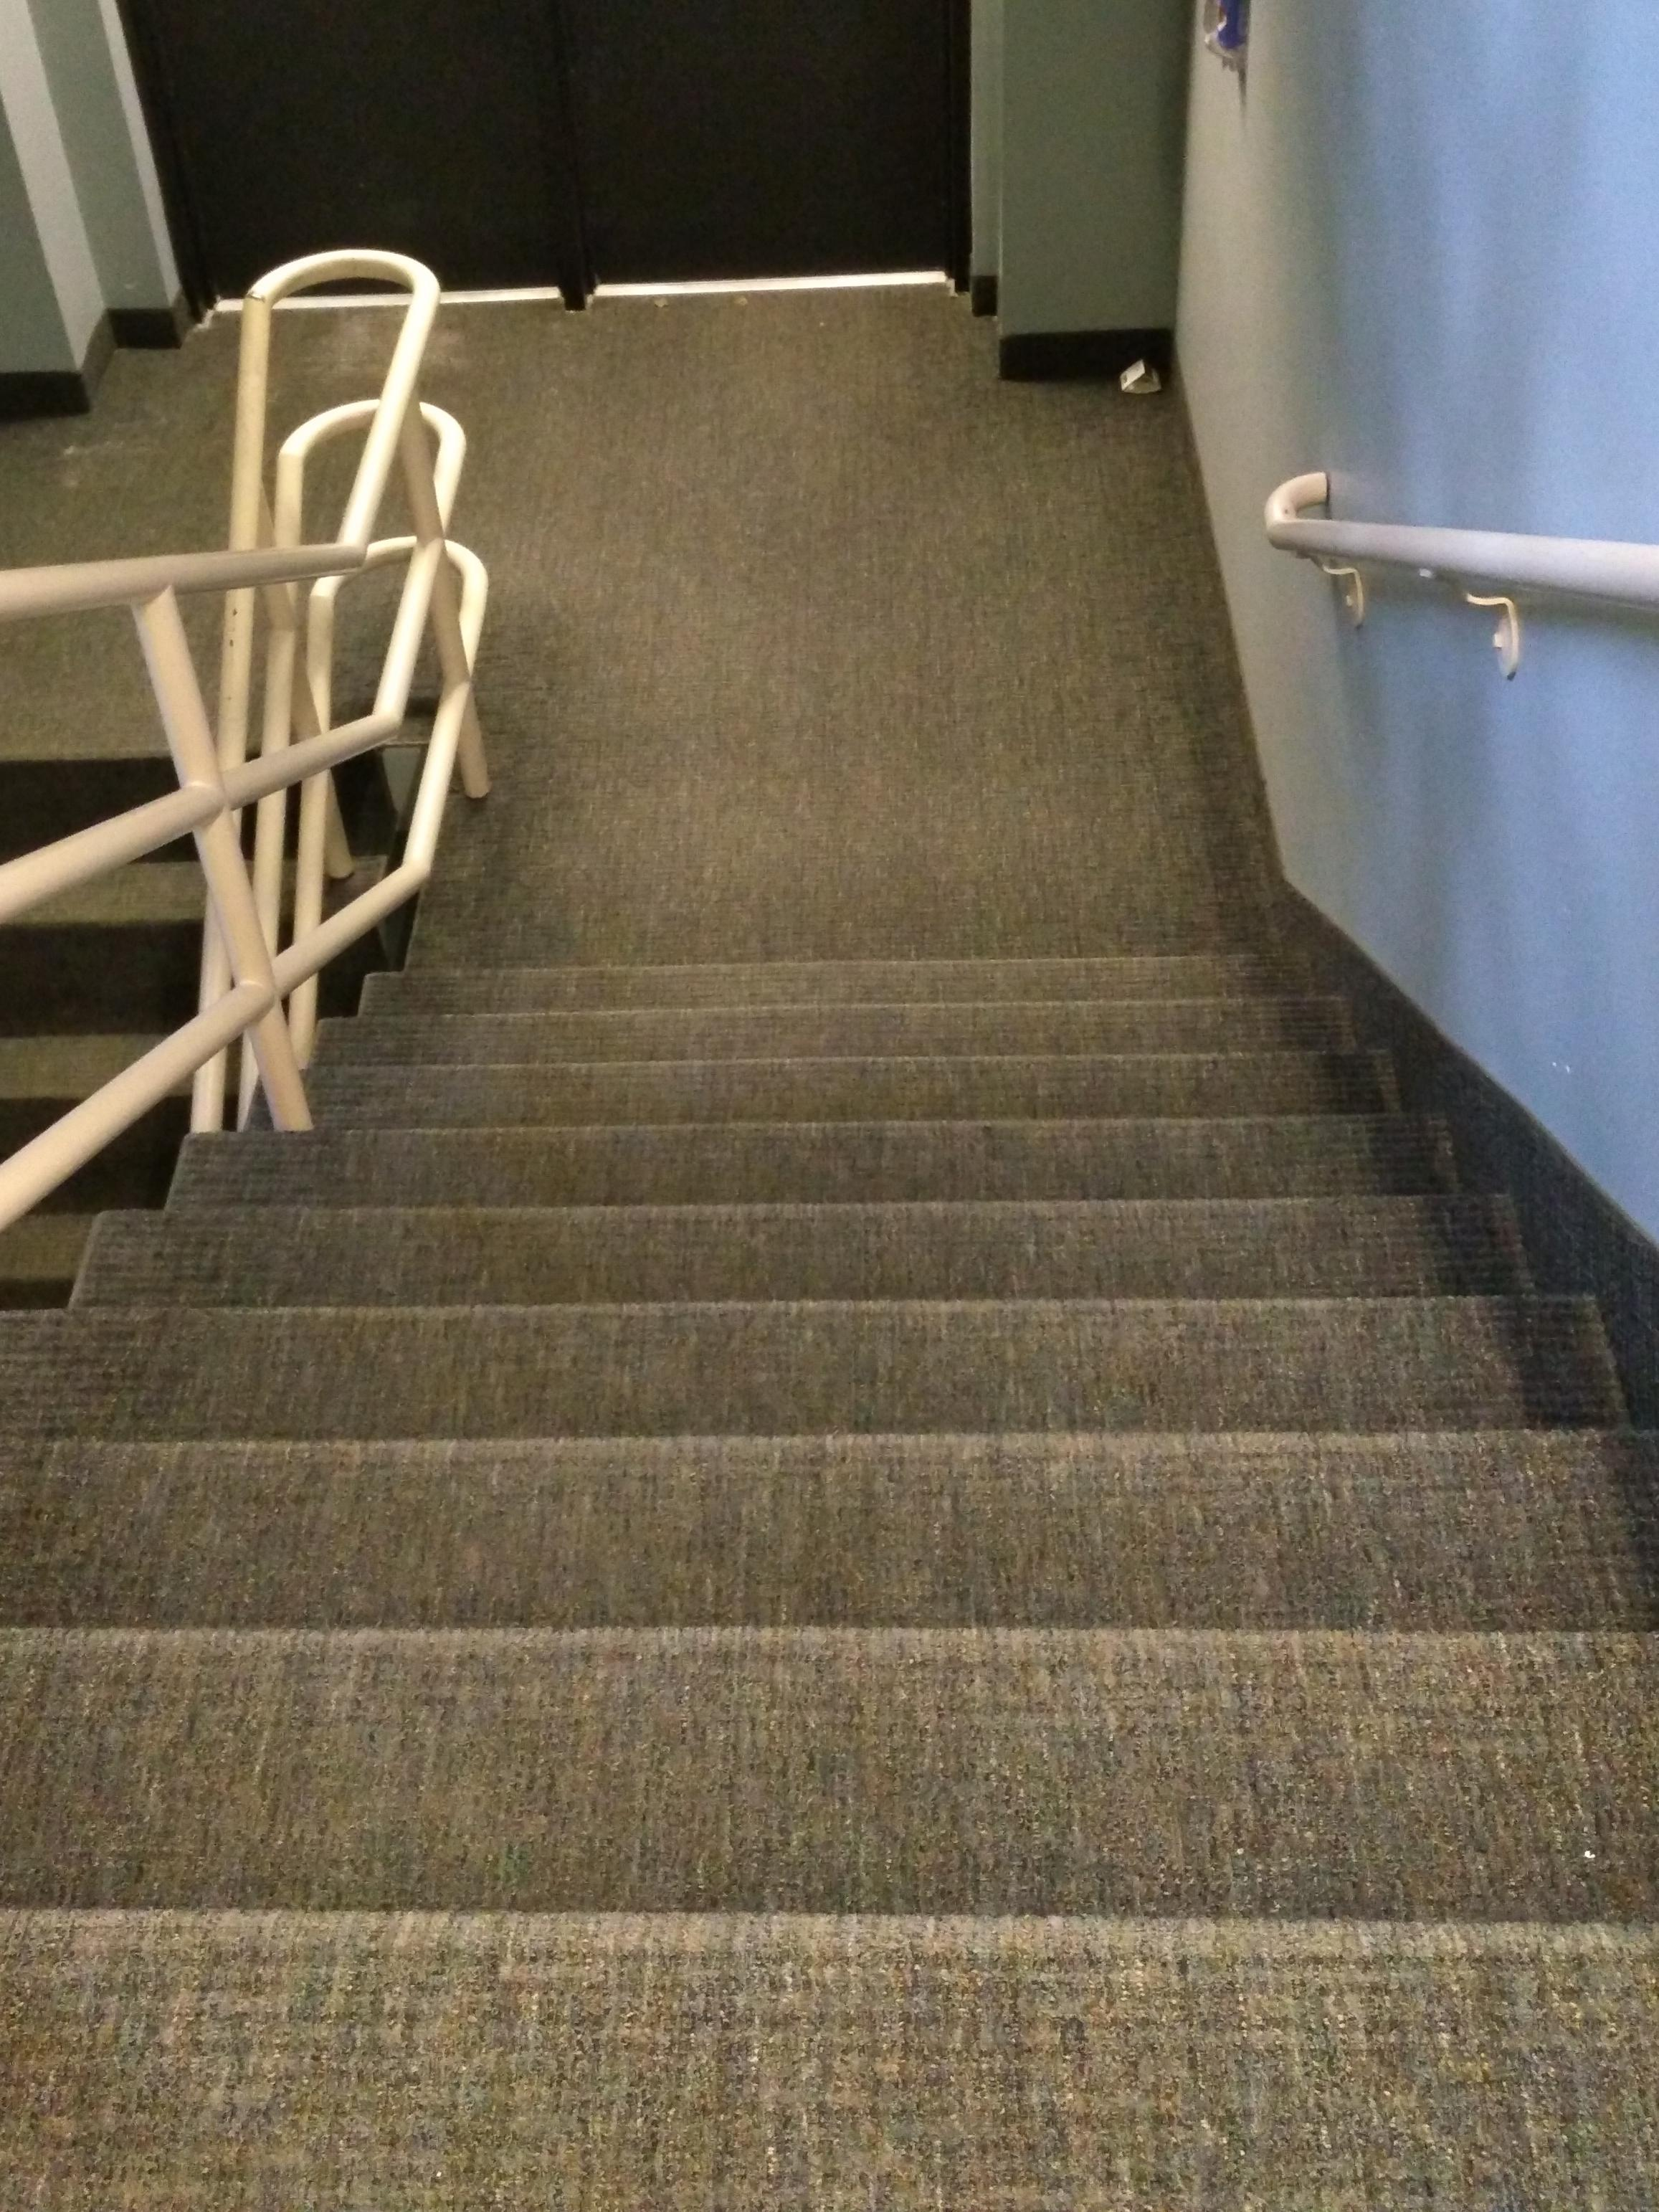stairs_down: (0, 901, 1656, 1956)
